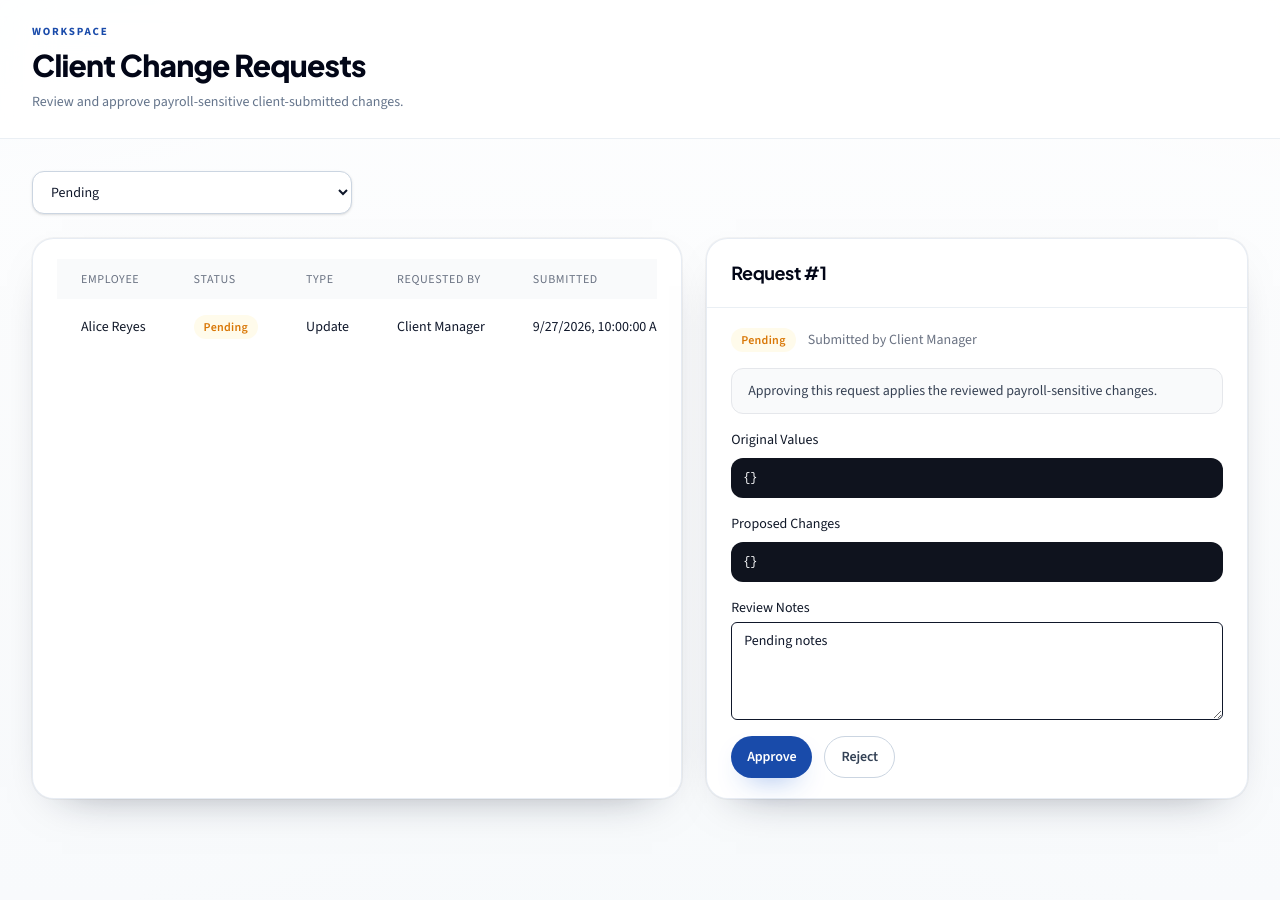
Test: refreshes the current filter when approval finishes after a filter change
Check: the heading "Request #1" is shown, box [731,261,826,284]
Click the button "Approve" at x=772, y=757, box [731,736,812,778]
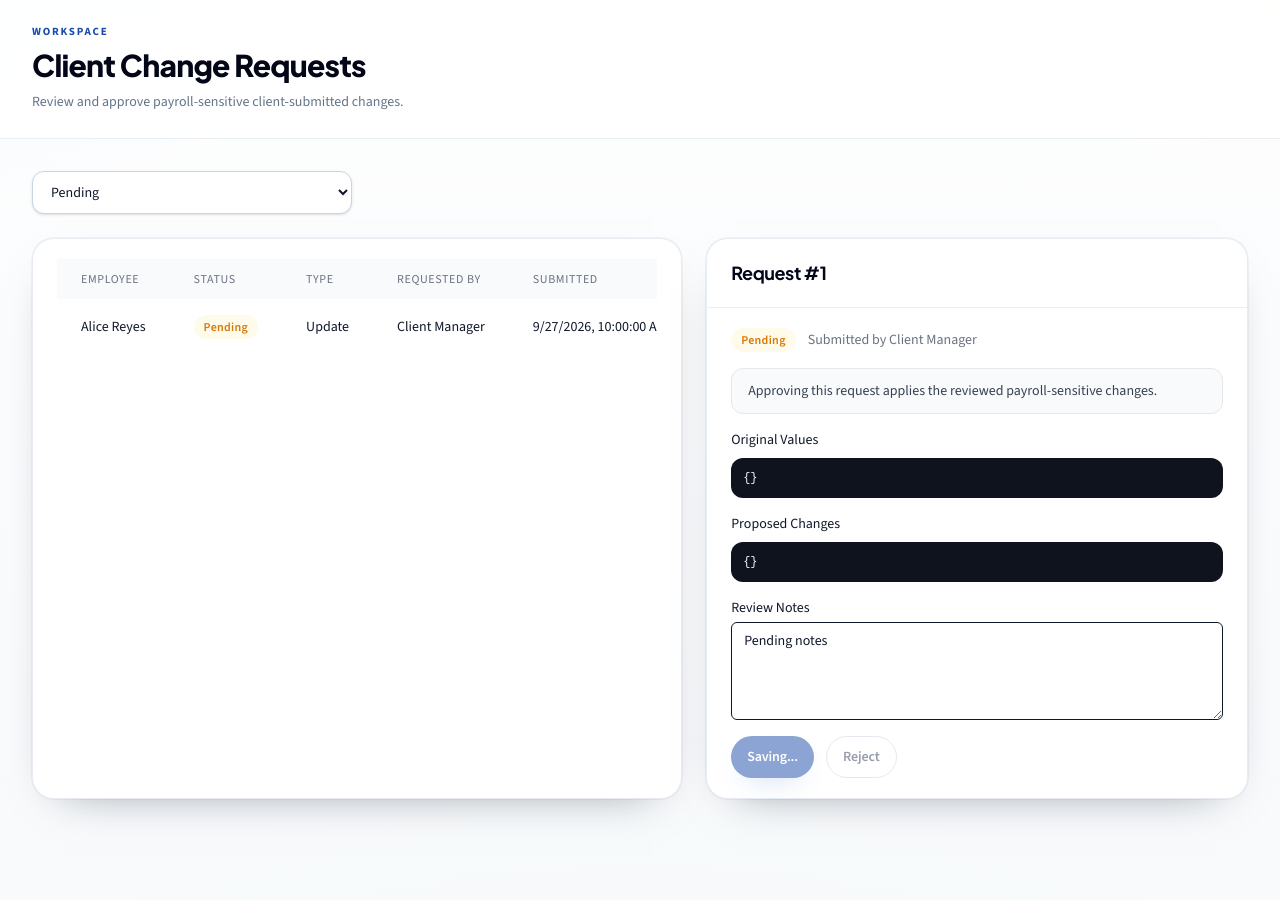
Select "Approved" in the dropdown at x=192, y=192, box [32,171,352,214]
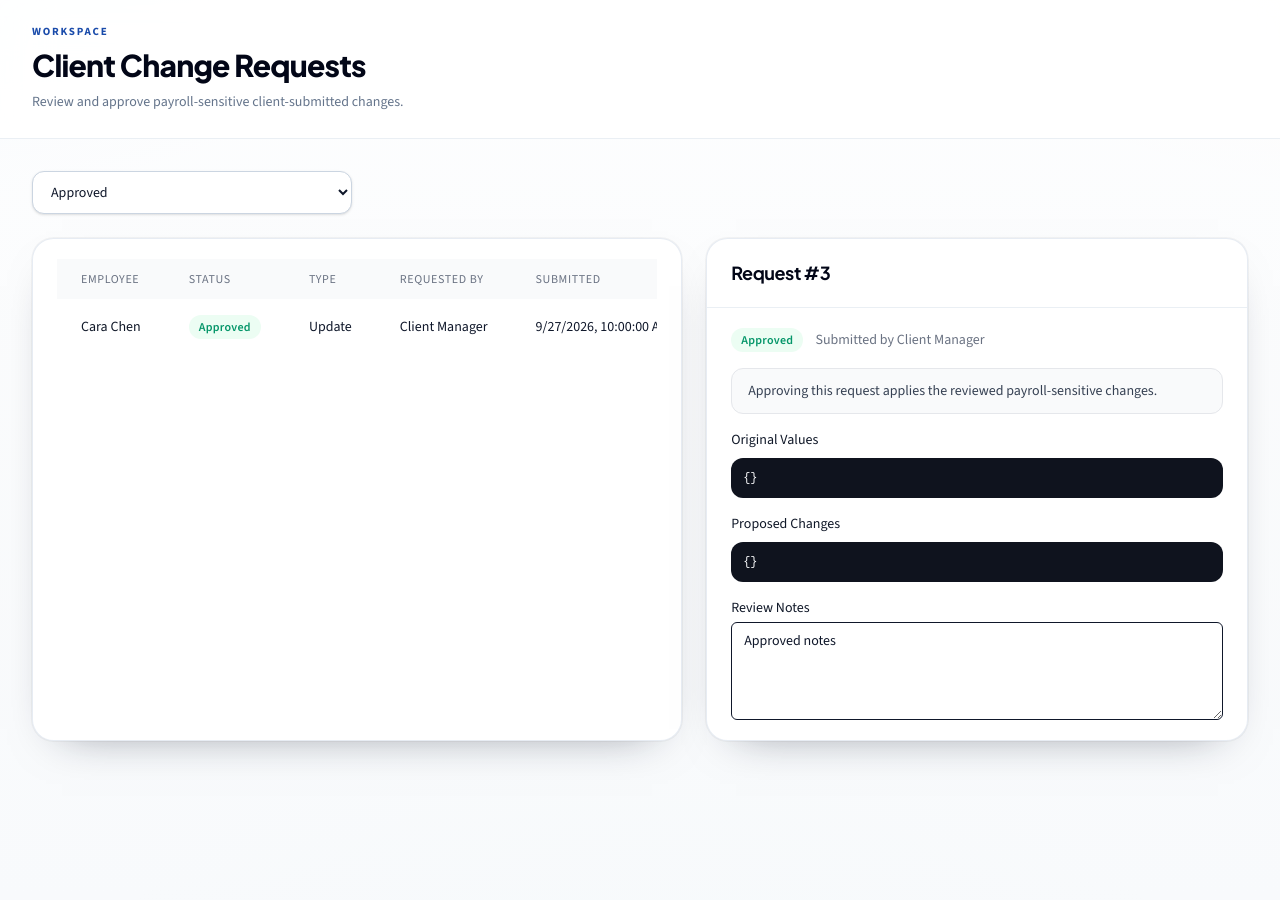
Check: the heading "Request #3" is shown, box [731,261,830,284]
Check: the cell "Alice Reyes" is gone
